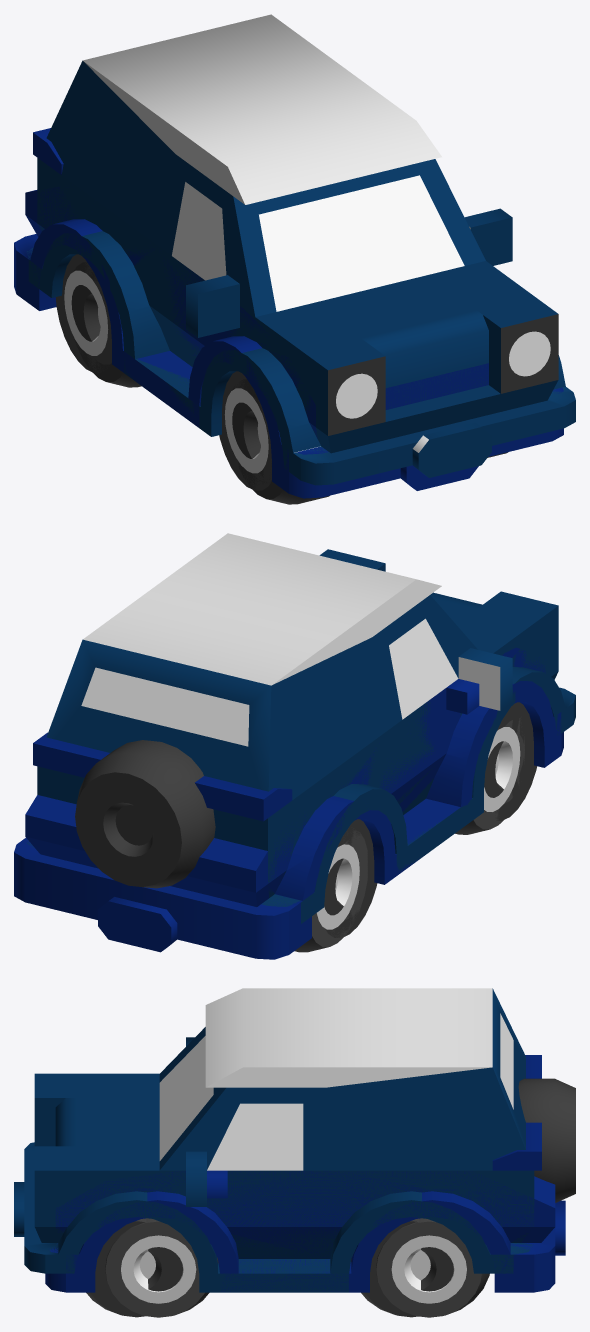
Rendered from suv_blue.glb.
The picture shows the model from 3 angles, top to bottom: view 1: azimuth 30°, elevation 25°; view 2: azimuth 150°, elevation 25°; view 3: azimuth 270°, elevation 25°; orthographic projection. The views are drawn at different scales.
Visible parts, largest first — view 1: body.001, body, wheel-back-right, wheel-front-right, wheel-front-right.001, wheel-back-right.001, spoiler; view 2: body.001, body, wheel-back, spoiler, wheel-back-right, wheel-front-right, wheel-front-right.001, wheel-back-right.001; view 3: body.001, body, wheel-back-left, wheel-front-left, wheel-back, wheel-front-left.001, wheel-back-left.001, spoiler.
Part boxes in pixels (x1,y1,x2,y2): body.001: (27,14,575,485); body: (14,187,563,498); wheel-back-right: (55,254,111,373); wheel-front-right: (219,371,271,490); wheel-front-right.001: (232,379,329,504); wheel-back-right.001: (71,262,141,387); spoiler: (33,128,63,174); body.001: (26,533,575,923); body: (14,647,563,959); wheel-back: (75,740,215,888); spoiler: (33,732,292,821); wheel-back-right: (294,828,367,952); wheel-front-right: (455,718,524,834); wheel-front-right.001: (484,702,536,820); wheel-back-right.001: (324,819,377,937); body.001: (14,988,534,1292); body: (45,1170,565,1292); wheel-back-left: (376,1218,489,1317); wheel-front-left: (105,1218,218,1317); wheel-back: (518,1078,575,1202); wheel-front-left.001: (86,1218,182,1317); wheel-back-left.001: (351,1218,453,1317); spoiler: (492,1055,541,1170).
Size of the model in its own units: 1.5 by 1.3 by 2.7.
